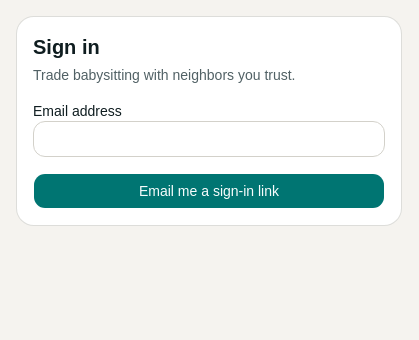
SignInPage › tells the person when the address is rejected
Type "ada@example.com" into the field labelled "Email address" at (209, 139), box [33,121,385,157]
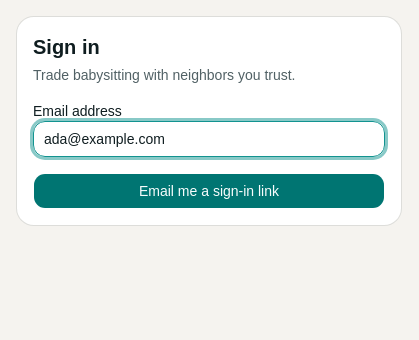
Click the button "Email me a sign-in link" at (209, 191), box [33,173,385,209]
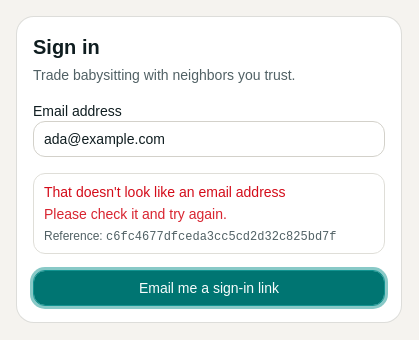
Now the text "That doesn't look like an email address" is shown, box [44,184,286,200]
